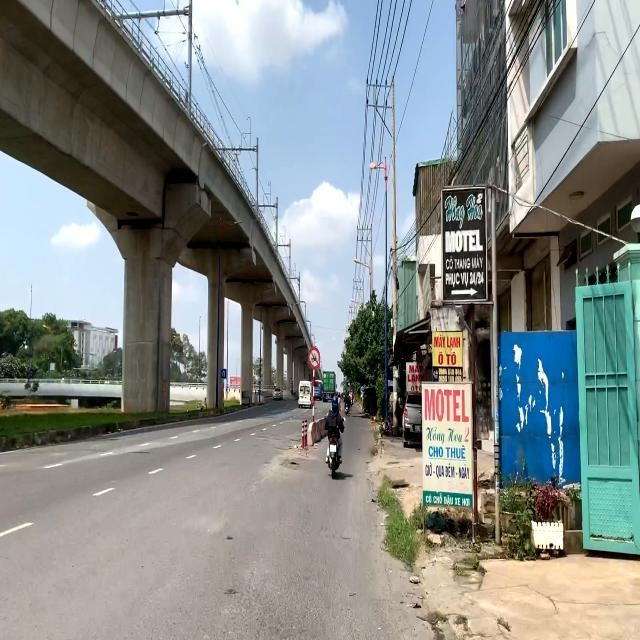bien_cam: (308, 347, 320, 369), (221, 369, 227, 379)
